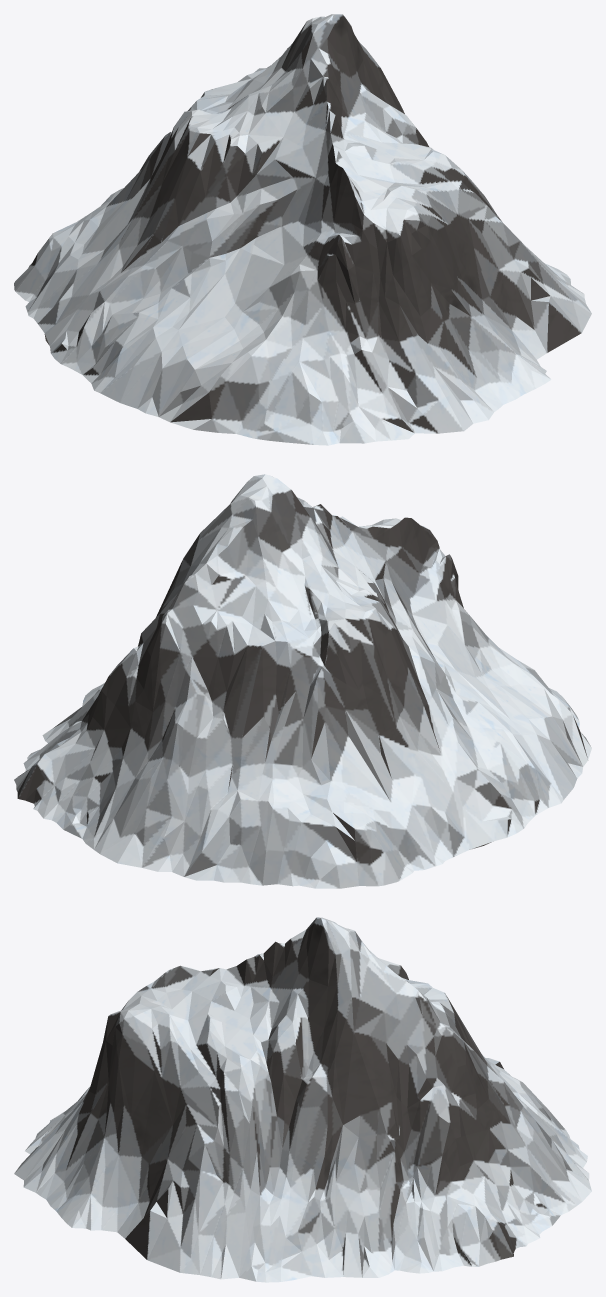
File: mountain_04.gltf
3 renders of one model, top to bottom at view 1: azimuth 30°, elevation 25°; view 2: azimuth 150°, elevation 25°; view 3: azimuth 270°, elevation 25°, orthographic. The views are drawn at different scales.
Parts seen in each view (by area): view 1: mountain_04; view 2: mountain_04; view 3: mountain_04.
Boxes of the visible parts, box(x1,y1,x2,y2) form: mountain_04: box(14, 14, 591, 445); mountain_04: box(14, 474, 591, 888); mountain_04: box(14, 917, 591, 1282).
Size of the model in its own units: 7.47 by 4.35 by 8.43.
Materials: 1 (1 with a texture image).
